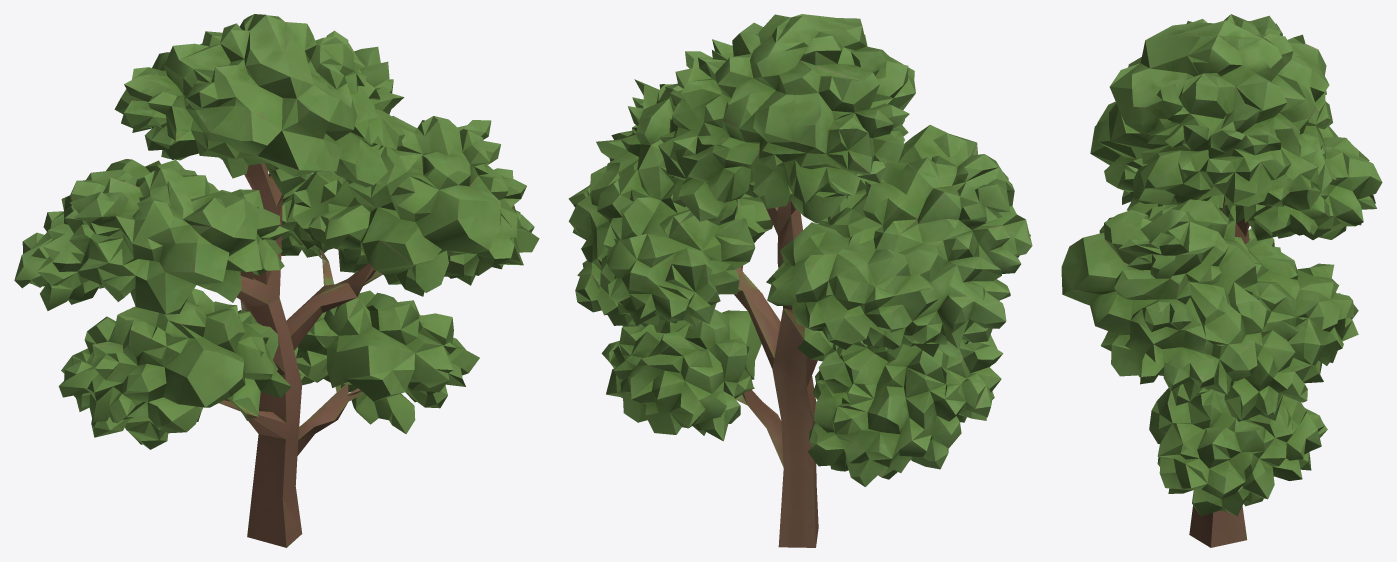
File: broadleafTree.glb
3 renders of one model, left to right at view 1: azimuth 30°, elevation 25°; view 2: azimuth 150°, elevation 25°; view 3: azimuth 270°, elevation 25°, orthographic. The views are drawn at different scales.
Parts seen in each view (by area): view 1: Mesh_0; view 2: Mesh_0; view 3: Mesh_0.
Boxes of the visible parts, x1,y1,x2,y2 form: Mesh_0: (14, 14, 539, 547); Mesh_0: (568, 14, 1032, 547); Mesh_0: (1061, 14, 1382, 547).
Bounding box in the file's own units: 1.8 × 1.91 × 1.08.
1 material, 1 textured.
